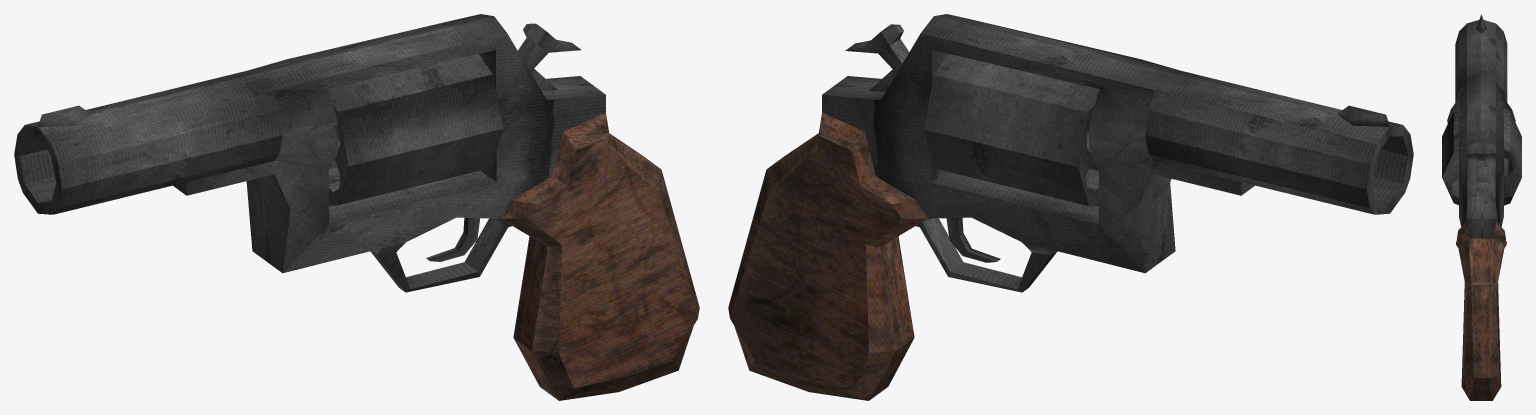
The picture shows the model from 3 angles, left to right: view 1: azimuth 30°, elevation 25°; view 2: azimuth 150°, elevation 25°; view 3: azimuth 270°, elevation 25°; orthographic projection. The views are drawn at different scales.
Visible parts, largest first — view 1: Frane, Cylinder, Hammer, Trigger; view 2: Frane, Cylinder, Hammer, Trigger; view 3: Frane, Cylinder, Hammer.
Boxes of the visible parts, box(x1,y1,x2,y2) form: Frane: box(14, 14, 699, 400); Cylinder: box(328, 54, 503, 205); Hammer: box(518, 23, 581, 90); Trigger: box(426, 217, 480, 261); Frane: box(728, 14, 1413, 400); Cylinder: box(923, 54, 1099, 206); Hammer: box(845, 24, 909, 92); Trigger: box(946, 218, 1000, 262); Frane: box(1447, 14, 1515, 400); Cylinder: box(1442, 108, 1521, 205); Hammer: box(1476, 160, 1487, 203).
Size of the model in its own units: 8.16 by 4.85 by 1.57.
Materials: 5 (5 with a texture image).
